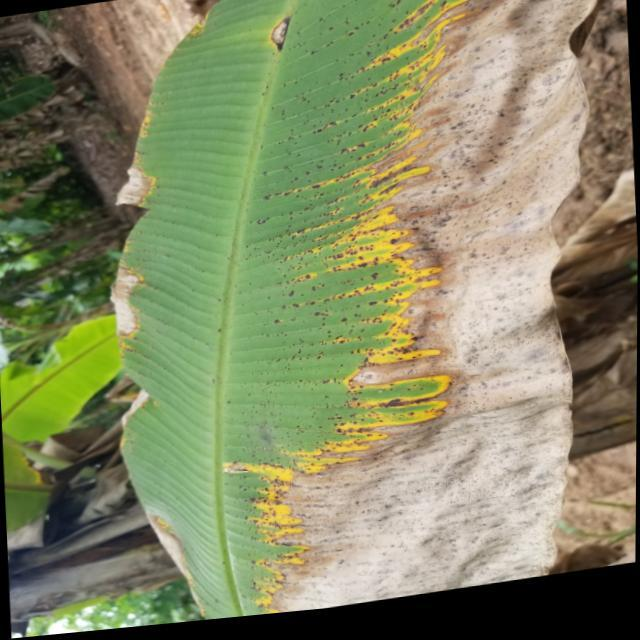Early_rust: (81, 8, 615, 614)
